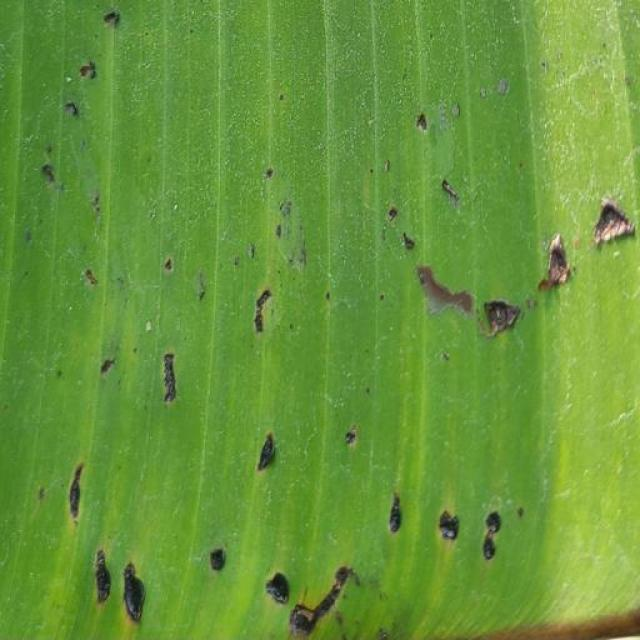Black_rot: (48, 416, 532, 640), (362, 100, 638, 344), (51, 232, 347, 416), (17, 2, 136, 218), (245, 147, 316, 237)
